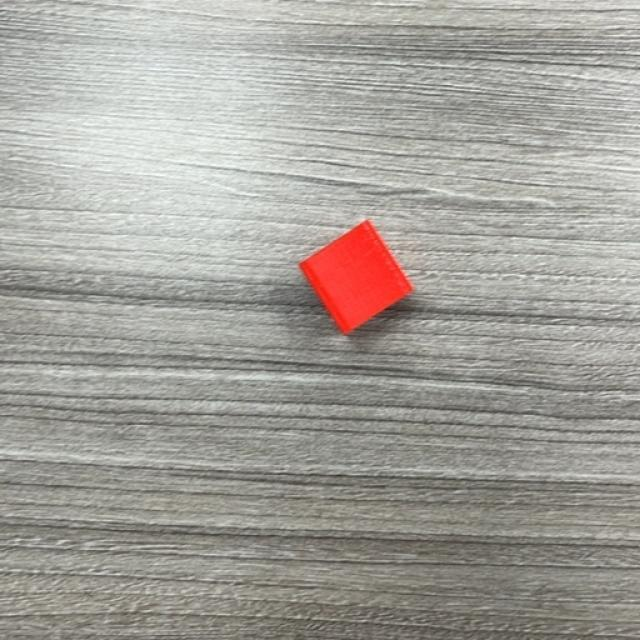Rojo: (298, 220, 415, 335)
